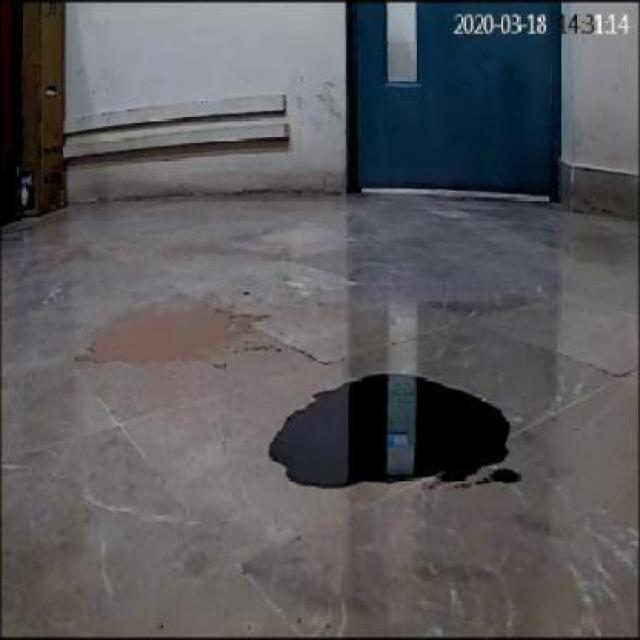spillage: (270, 373, 512, 489)
